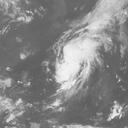cyclone: (55, 37, 103, 94)
